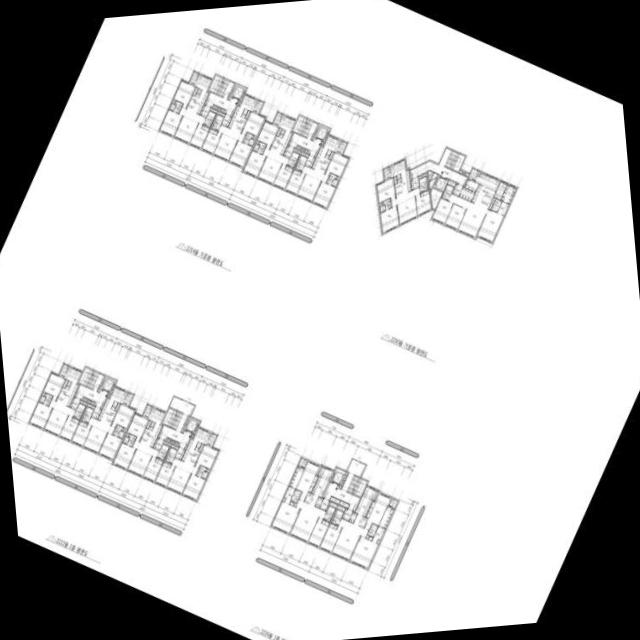background: (0, 0, 640, 640)
space_balconi: (468, 168, 478, 181), (383, 167, 390, 181)
space_bedroom: (364, 493, 391, 530), (349, 536, 378, 569), (296, 461, 319, 501), (271, 501, 299, 533), (477, 209, 503, 242), (307, 517, 329, 547), (319, 523, 341, 552), (228, 141, 252, 167), (98, 433, 121, 460), (242, 150, 265, 177), (312, 181, 335, 208), (126, 413, 148, 441), (173, 80, 195, 108), (256, 121, 278, 149), (43, 372, 65, 400), (112, 443, 135, 469), (182, 474, 205, 500), (159, 110, 182, 136), (29, 402, 52, 428), (241, 112, 265, 136), (111, 404, 135, 428), (194, 445, 218, 469), (444, 204, 466, 230), (431, 198, 453, 224), (325, 152, 348, 176), (379, 205, 398, 233), (59, 415, 79, 441), (155, 462, 175, 487), (201, 129, 221, 154), (285, 169, 305, 194), (189, 123, 209, 148), (273, 164, 293, 189), (143, 456, 163, 481), (71, 421, 91, 446), (376, 178, 395, 203), (415, 189, 431, 216)
space_dressroom: (500, 184, 516, 204), (378, 507, 393, 528), (289, 467, 304, 488), (371, 526, 385, 543), (283, 486, 295, 504)
space_elevator: (231, 84, 246, 101), (330, 468, 345, 485), (101, 377, 116, 393), (185, 418, 199, 434), (433, 175, 447, 191), (315, 125, 329, 141)
space_elevator_hall: (323, 459, 365, 510), (159, 396, 194, 448), (410, 161, 467, 185), (75, 373, 107, 407), (205, 81, 237, 115), (289, 122, 321, 156)
space_front: (451, 183, 462, 196), (319, 498, 330, 511), (341, 508, 352, 521), (199, 105, 210, 117), (69, 397, 80, 409), (174, 447, 185, 459), (91, 406, 101, 419), (283, 145, 293, 158), (305, 155, 315, 167), (221, 114, 231, 126), (153, 438, 163, 450), (410, 177, 419, 190)
space_kitchen: (311, 135, 341, 174), (228, 94, 258, 133), (181, 427, 211, 466), (98, 386, 127, 426), (304, 466, 333, 506), (471, 172, 500, 209), (353, 486, 378, 528), (56, 366, 82, 406), (186, 74, 212, 114), (139, 407, 165, 447), (270, 114, 295, 154), (389, 159, 411, 198)
space_living_room: (448, 193, 487, 238), (331, 518, 368, 560), (290, 500, 325, 542), (166, 458, 198, 494), (296, 165, 328, 201), (257, 148, 289, 184), (127, 440, 159, 476), (83, 417, 114, 453), (213, 125, 244, 161), (174, 107, 205, 143), (44, 399, 75, 435), (391, 187, 419, 225)
space_other: (493, 181, 507, 199), (430, 188, 442, 209), (459, 187, 474, 201), (464, 179, 478, 192), (429, 173, 437, 190), (311, 124, 319, 140), (181, 417, 189, 432), (97, 376, 105, 391), (228, 83, 235, 99), (348, 511, 357, 523), (314, 497, 323, 508), (329, 496, 339, 503), (489, 198, 495, 209), (458, 170, 468, 176), (339, 501, 349, 507), (418, 173, 427, 179), (428, 171, 433, 181), (209, 107, 217, 113), (447, 180, 455, 186), (329, 502, 337, 508), (337, 505, 345, 511), (316, 466, 321, 475), (374, 492, 379, 501), (87, 403, 95, 408), (146, 420, 151, 428), (170, 444, 178, 449), (217, 111, 225, 116), (276, 128, 281, 136), (328, 151, 333, 159), (293, 148, 301, 153), (192, 87, 197, 95), (62, 380, 67, 388), (198, 444, 203, 452), (114, 403, 119, 411), (79, 400, 87, 405), (339, 480, 344, 488), (343, 472, 348, 480), (245, 111, 250, 118), (301, 152, 308, 157), (163, 441, 170, 446), (393, 176, 396, 184), (477, 171, 481, 176), (304, 149, 309, 153), (220, 108, 225, 112), (300, 147, 304, 151), (336, 176, 340, 180), (296, 145, 300, 149), (82, 397, 86, 401), (174, 441, 178, 445), (171, 99, 175, 103), (365, 535, 369, 539), (86, 399, 91, 402), (216, 107, 221, 110), (212, 105, 217, 108), (90, 401, 95, 404), (170, 440, 174, 443), (378, 202, 381, 206), (253, 135, 256, 139), (166, 438, 170, 441), (41, 391, 44, 395), (255, 140, 258, 144), (206, 469, 210, 472), (376, 540, 380, 543), (125, 432, 128, 436), (123, 428, 126, 431), (237, 101, 240, 104), (282, 498, 285, 501), (293, 503, 296, 506), (107, 394, 110, 396), (191, 434, 193, 437), (321, 142, 323, 144)
space_outdoor_room: (142, 404, 152, 417), (123, 393, 133, 406), (272, 112, 282, 125), (253, 100, 263, 113), (58, 364, 68, 377), (207, 433, 216, 446), (189, 71, 198, 84), (337, 141, 346, 154), (297, 458, 307, 468), (388, 498, 397, 509)
space_staircase: (439, 148, 464, 171), (208, 75, 229, 96), (78, 367, 99, 388), (162, 408, 182, 429), (292, 116, 312, 137), (347, 475, 367, 496)
space_toilet: (490, 198, 509, 215), (165, 447, 177, 463), (73, 403, 85, 419), (211, 114, 223, 130), (441, 184, 453, 200), (295, 155, 307, 171), (331, 509, 343, 525), (323, 506, 335, 522), (157, 444, 169, 459), (287, 152, 299, 167), (203, 111, 215, 126), (81, 407, 93, 422), (380, 198, 391, 212), (418, 176, 427, 192), (196, 465, 207, 477), (242, 132, 253, 144), (326, 173, 337, 184), (112, 425, 123, 436), (257, 141, 266, 154), (43, 393, 52, 405), (173, 101, 182, 113), (127, 434, 136, 446), (290, 495, 299, 503), (369, 523, 378, 531), (367, 529, 375, 537), (293, 489, 301, 497), (122, 436, 129, 444), (247, 138, 254, 146), (201, 471, 207, 479), (117, 430, 123, 438), (169, 103, 175, 111), (331, 179, 337, 186), (253, 144, 259, 151), (39, 396, 45, 403)
